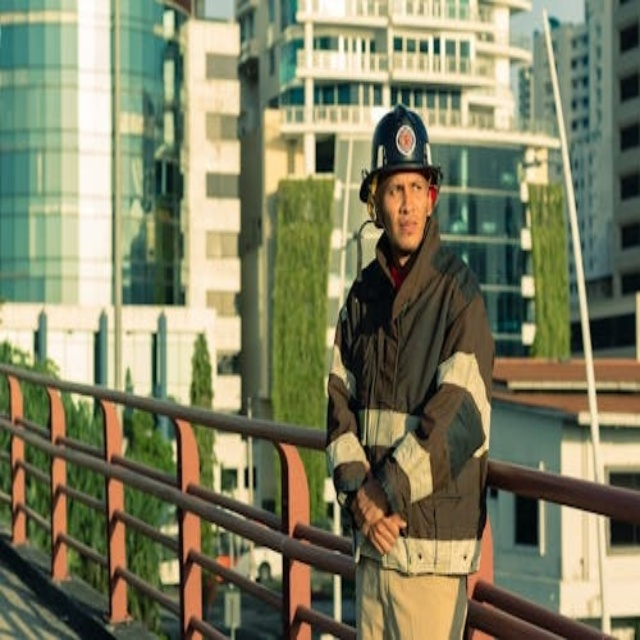Sin_gafas: (384, 175, 429, 205)
Sin_guantes: (343, 465, 393, 537), (366, 505, 416, 560)
Sin_mascara: (393, 215, 421, 248)
